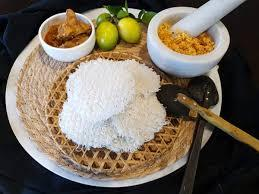Pol Sambol: (49, 53, 171, 159)
